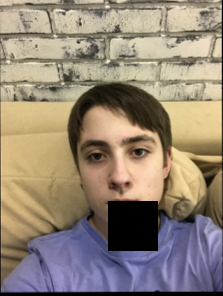without_mask: (76, 130, 162, 230)
